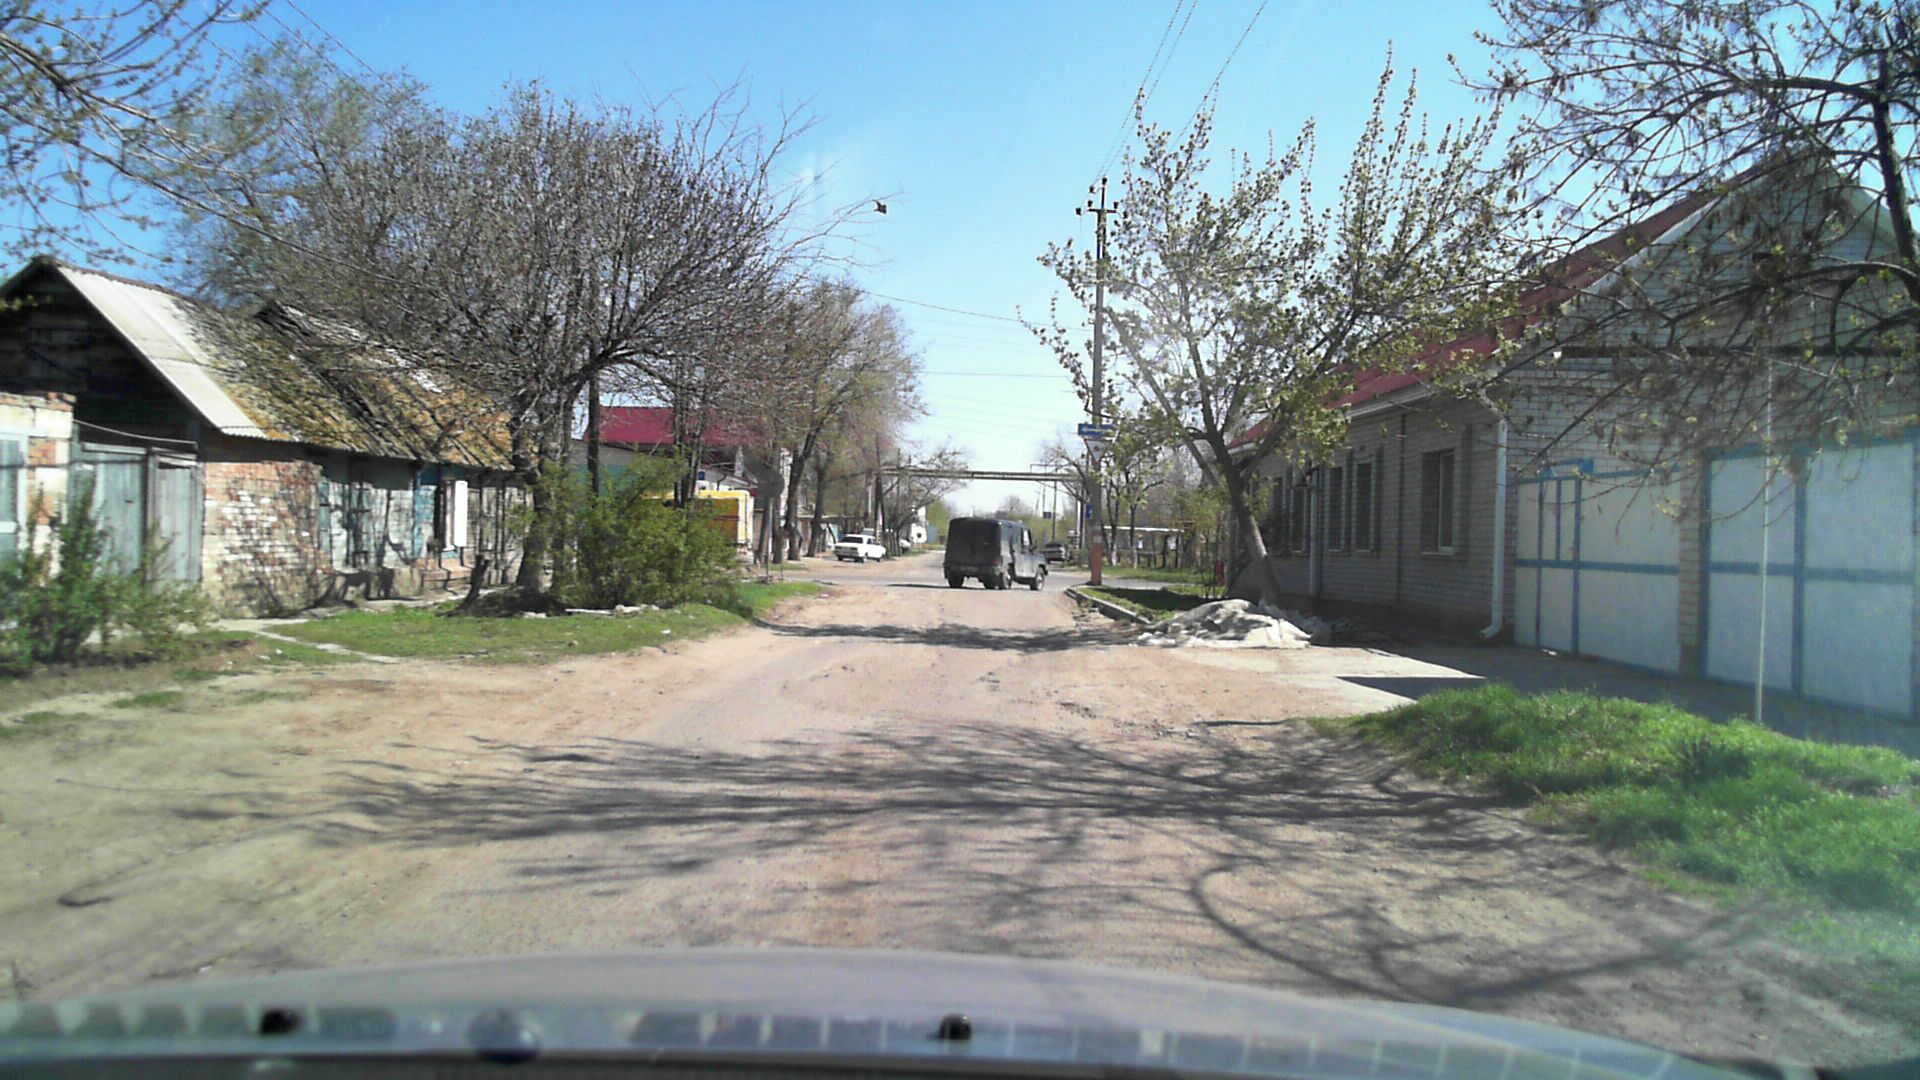One-Way Traffic: (1077, 423, 1122, 436)
